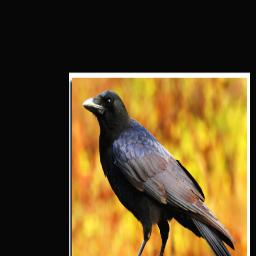Crow: (82, 87, 240, 256)
